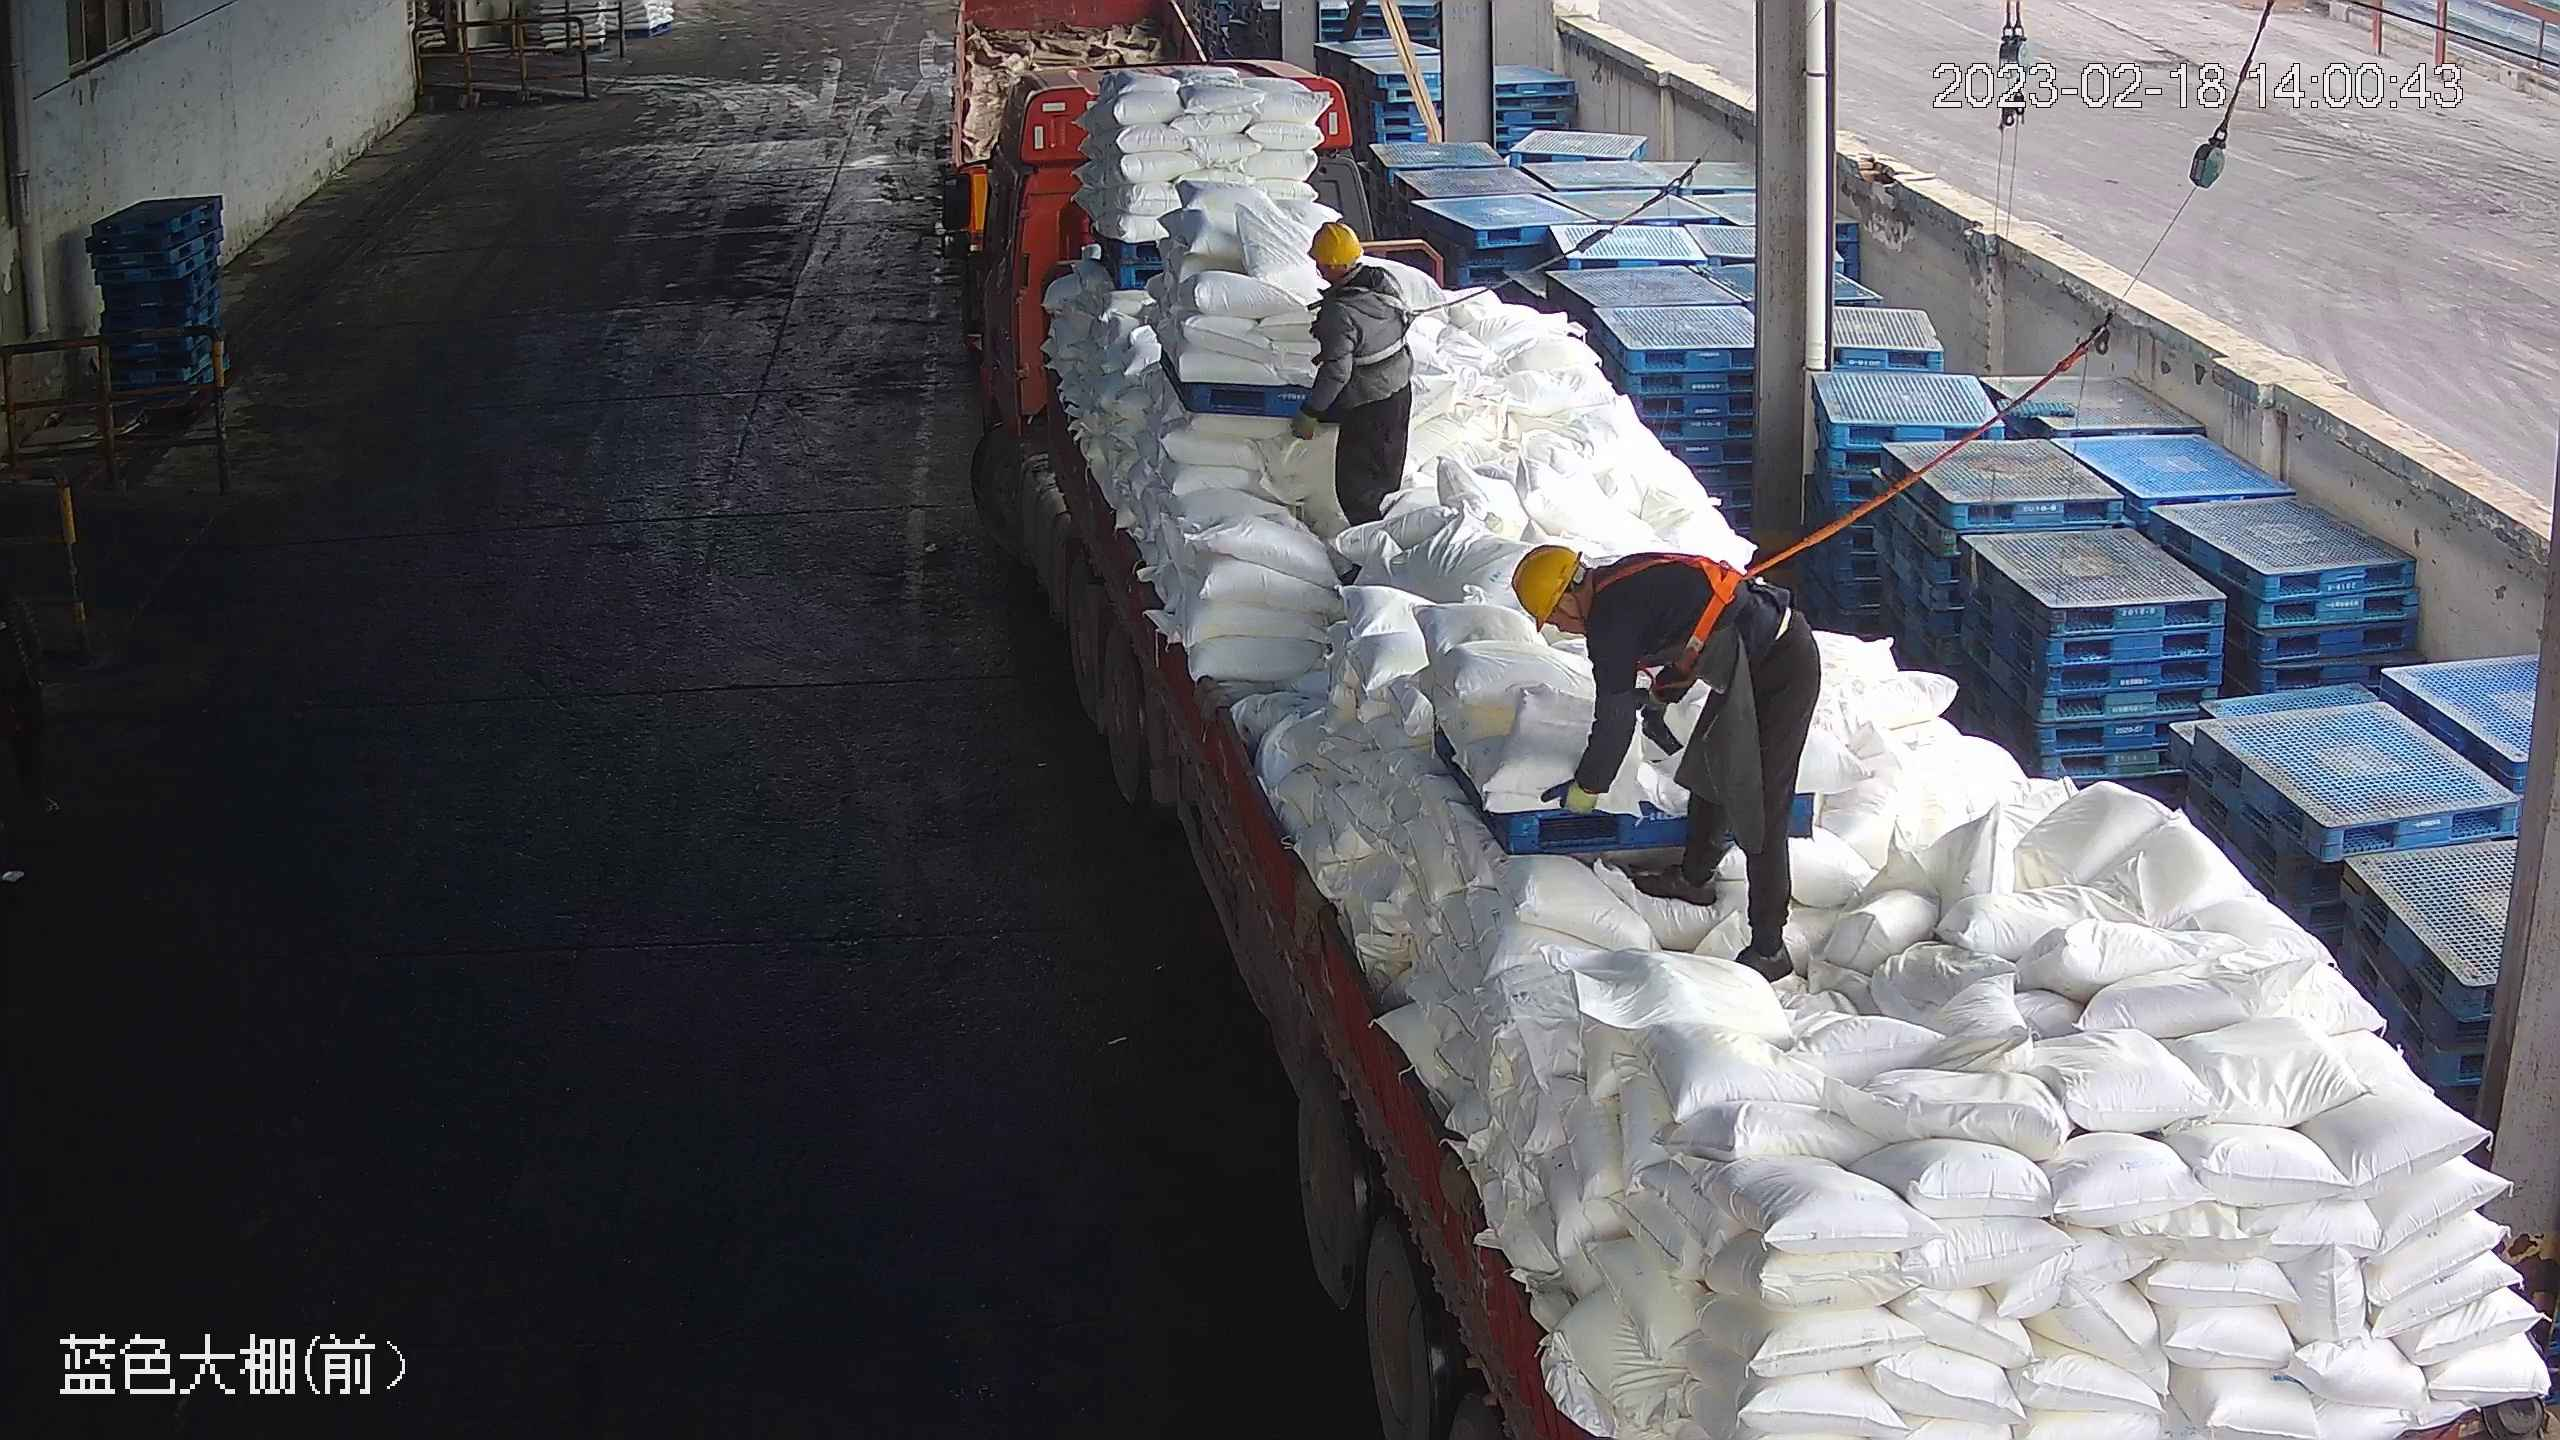belt: (1606, 551, 1749, 681), (1345, 284, 1425, 371)
head: (1508, 544, 1690, 670), (1303, 221, 1409, 343)
helmet: (1509, 545, 1582, 632), (1308, 223, 1364, 264)
people: (1508, 541, 1822, 987), (1288, 221, 1418, 525)
truck: (949, 57, 2560, 1440)
